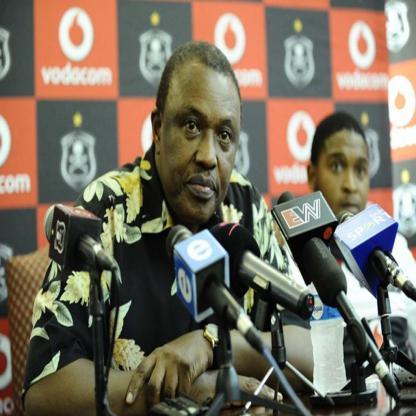face: (164, 71, 241, 225), (318, 136, 371, 229)
